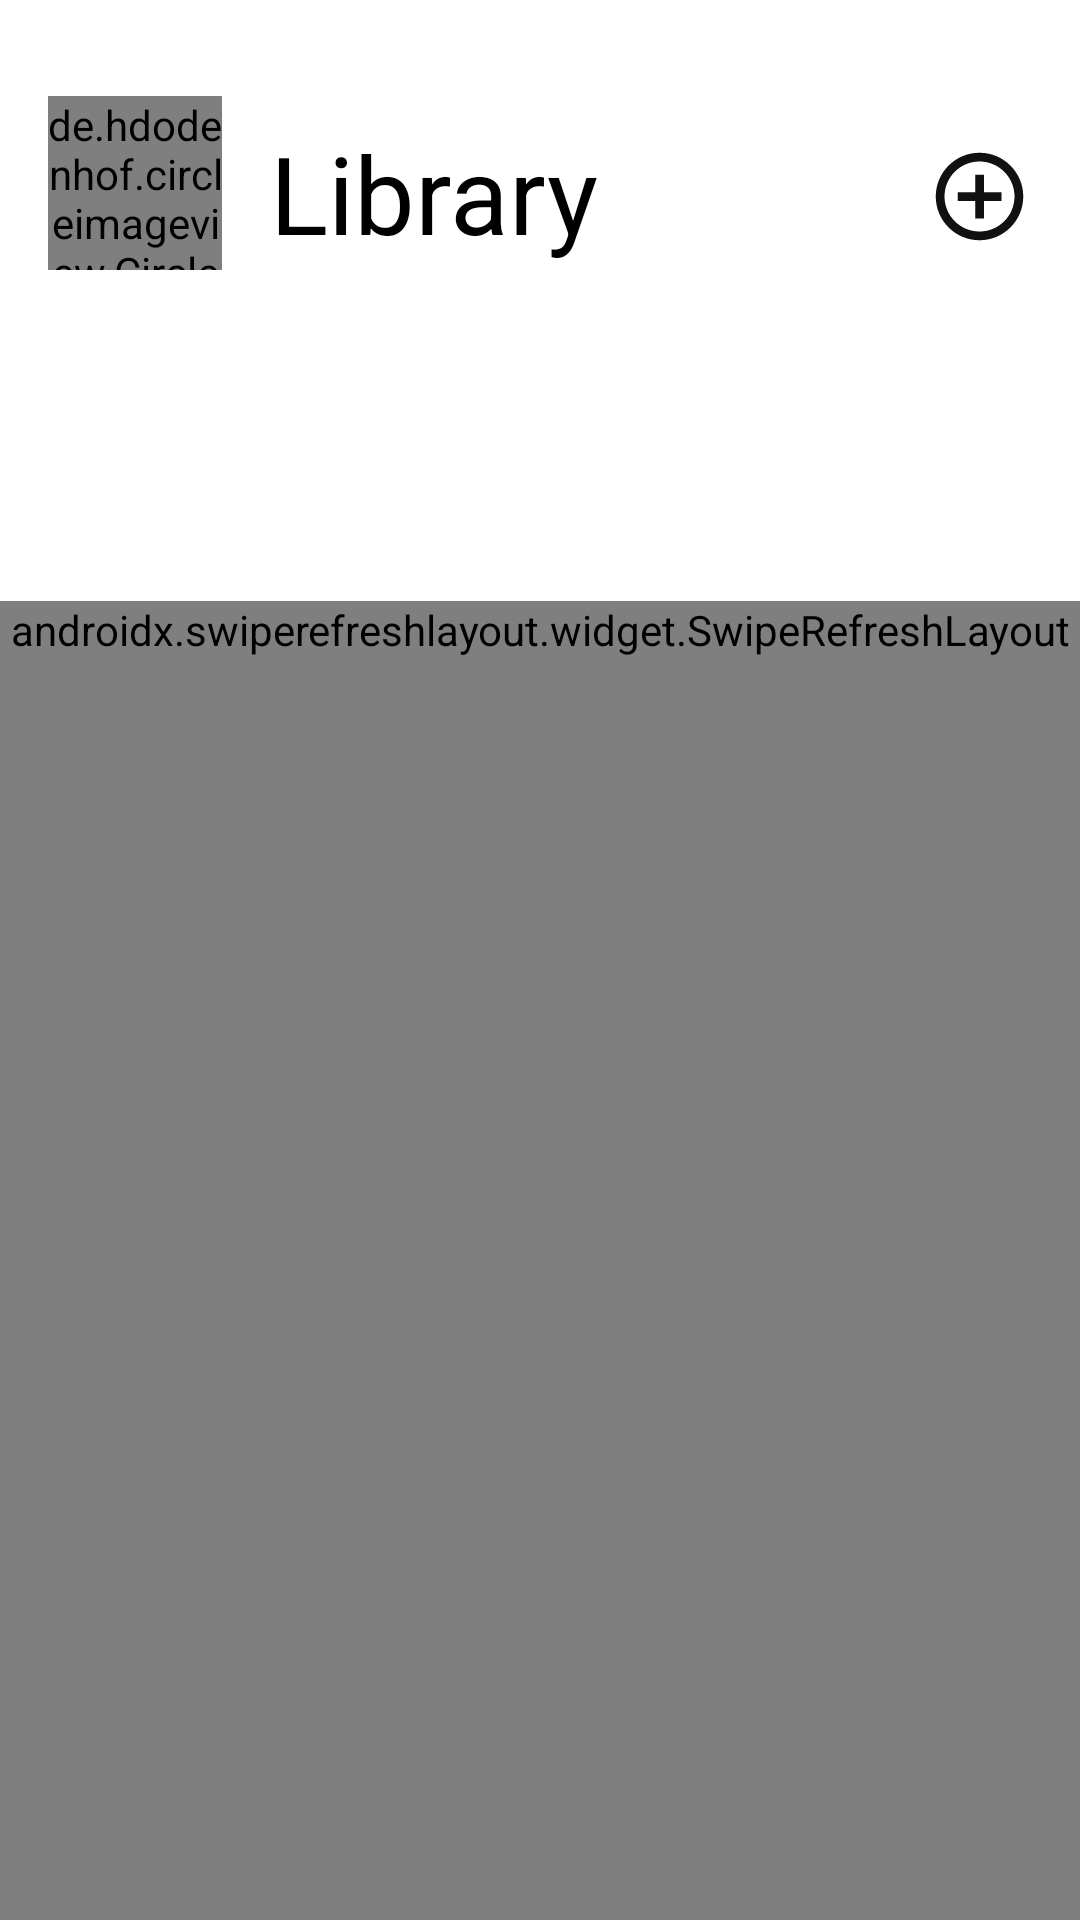

Icon click points for this 1080w x 1920h phone screenshot, format (x=x, y=y):
add circle: (x=979, y=196)
